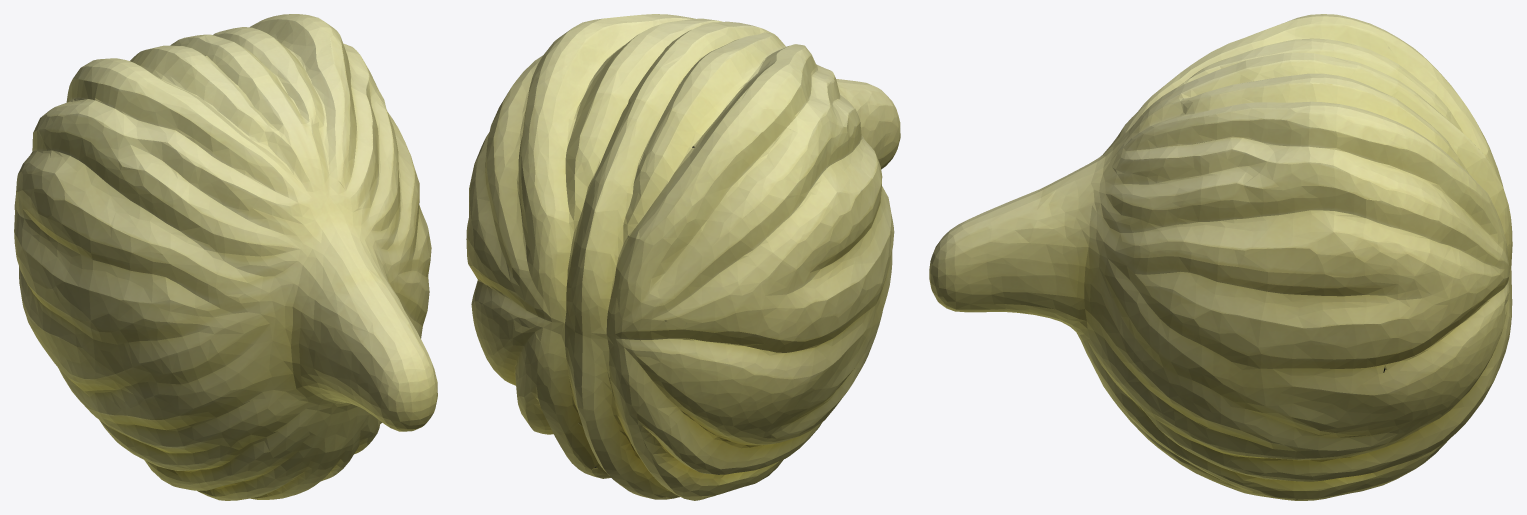
3 views of the same model, side by side, from view 1: azimuth 30°, elevation 25°; view 2: azimuth 150°, elevation 25°; view 3: azimuth 270°, elevation 25° (orthographic). The views are drawn at different scales.
Visible parts, largest first — view 1: geometry_0; view 2: geometry_0; view 3: geometry_0.
Part boxes in pixels (bbox=[...]): geometry_0: bbox=[14, 14, 437, 500]; geometry_0: bbox=[466, 14, 900, 500]; geometry_0: bbox=[929, 14, 1512, 500].
Size of the model in its own units: 0.0374 by 0.0452 by 0.055.
Materials: 1 (1 with a texture image).
